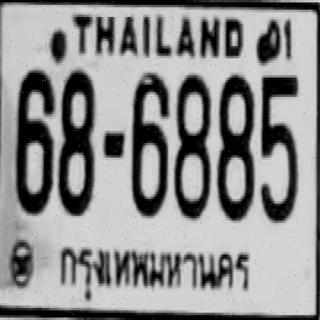N05: (260, 74, 298, 222)
N06: (14, 68, 54, 213), (130, 70, 168, 216)
N08: (216, 73, 253, 218), (173, 73, 210, 218), (58, 69, 94, 215)
P04: (56, 235, 250, 303)
